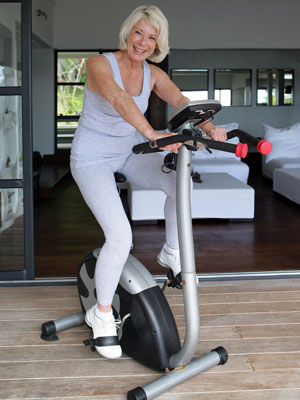gym_bike: (47, 104, 220, 400)
